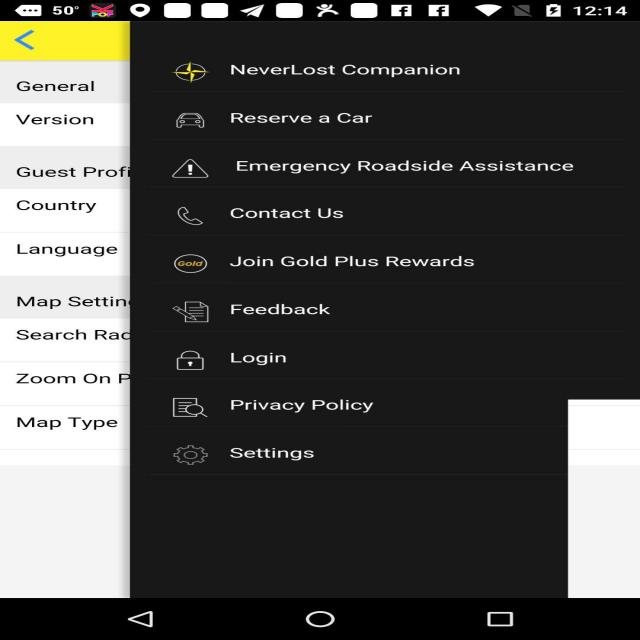button: (151, 53, 587, 512), (103, 602, 574, 636), (9, 32, 77, 54)
text: (9, 78, 131, 440)
